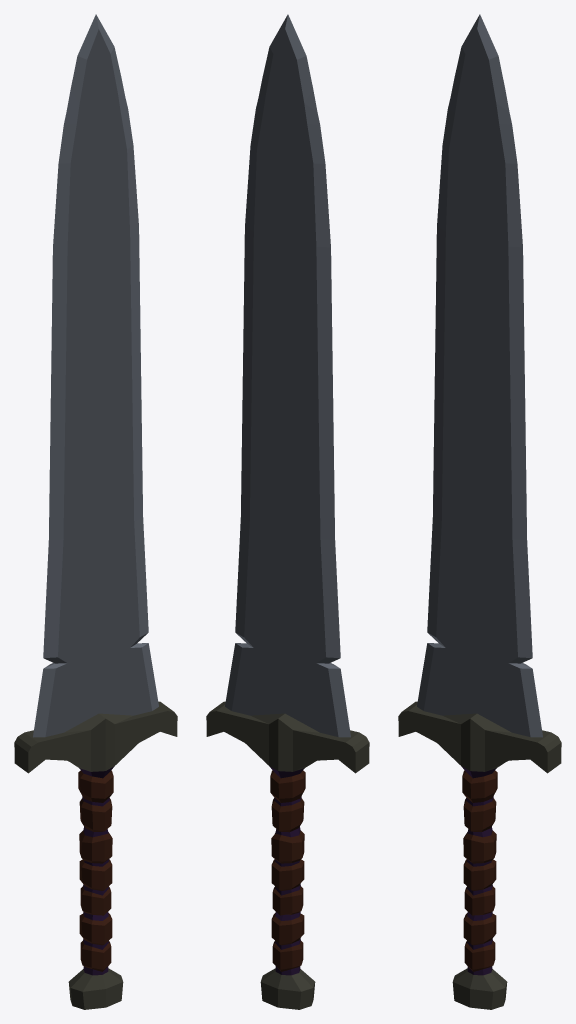
Rendered from Sword_Big.glb.
3 renders of one model, left to right at view 1: azimuth 30°, elevation 25°; view 2: azimuth 150°, elevation 25°; view 3: azimuth 330°, elevation 25°, orthographic.
Visible parts, largest first — view 1: Sword_Big; view 2: Sword_Big; view 3: Sword_Big.
Part boxes in pixels (bbox=[...]): Sword_Big: bbox=[14, 14, 177, 1009]; Sword_Big: bbox=[206, 14, 369, 1009]; Sword_Big: bbox=[398, 14, 561, 1009].
Bounding box in the file's own units: 0.1457 × 0.92 × 0.0341.
